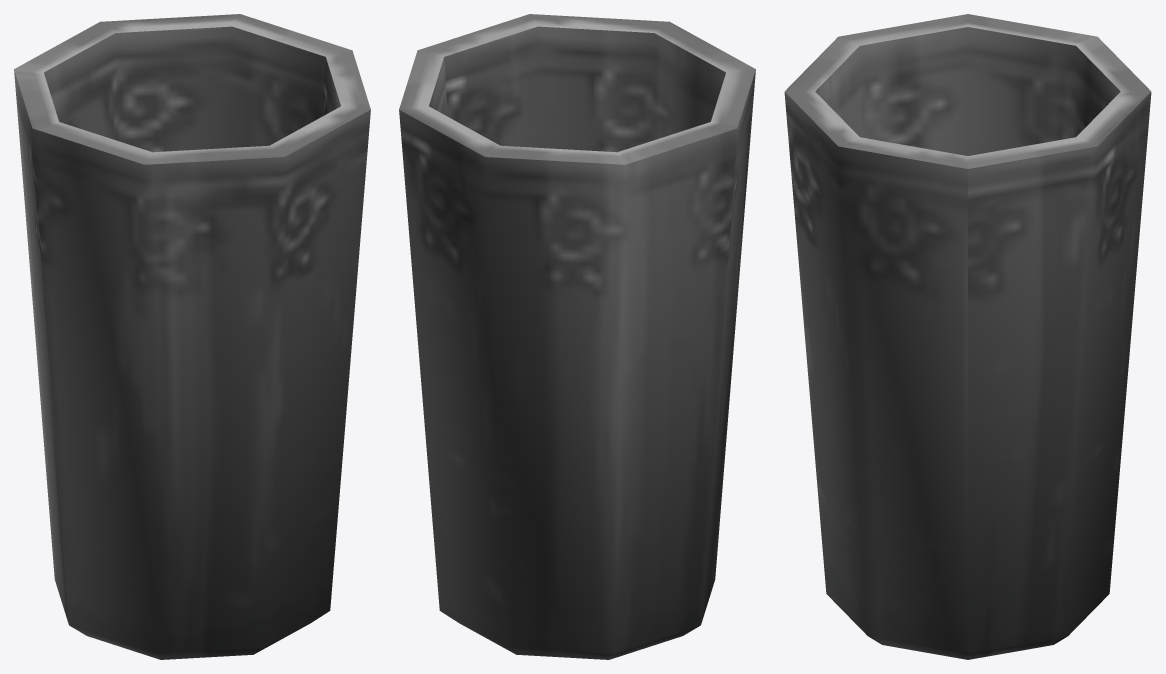
The model's file is SM_PROP_glass_city_03.fbx.
3 views of the same model, side by side, from view 1: azimuth 30°, elevation 25°; view 2: azimuth 150°, elevation 25°; view 3: azimuth 270°, elevation 25° (orthographic).
Parts seen in each view (by area): view 1: SM_PROP_glass_city_03; view 2: SM_PROP_glass_city_03; view 3: SM_PROP_glass_city_03.
Part boxes in pixels (x1,y1,x2,y2): SM_PROP_glass_city_03: (14,14,370,659); SM_PROP_glass_city_03: (399,14,755,659); SM_PROP_glass_city_03: (784,14,1151,659).
Bounding box in the file's own units: 10.06 × 15.64 × 10.06.
